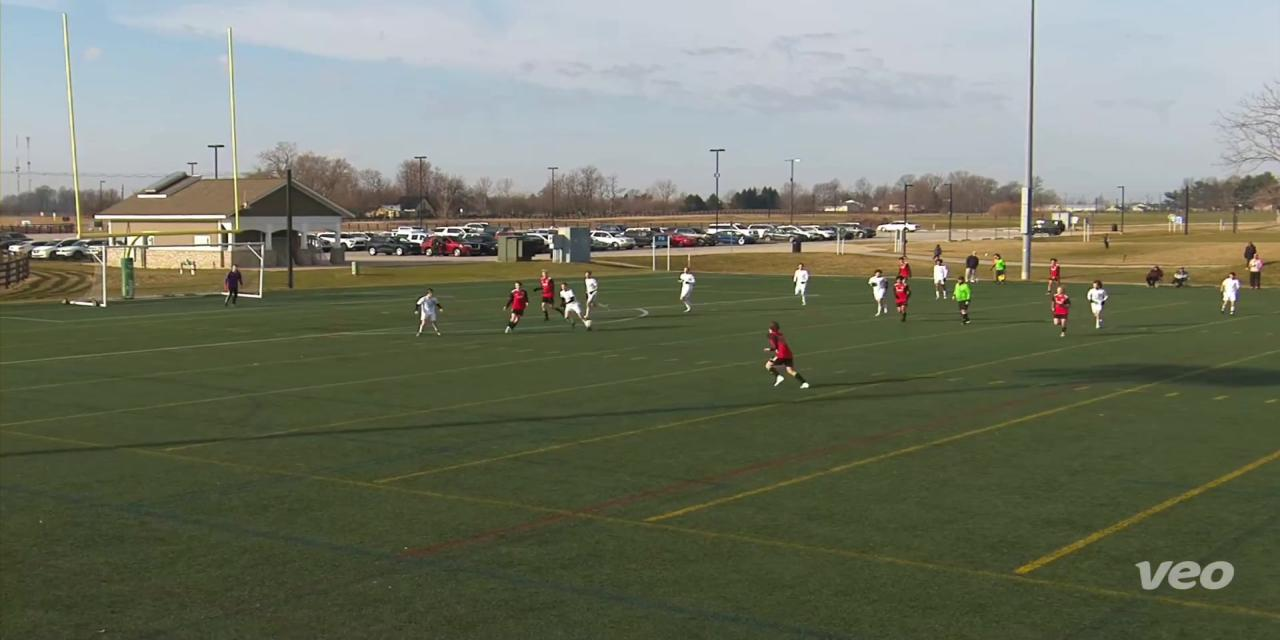sports ball: (582, 315, 598, 333)
